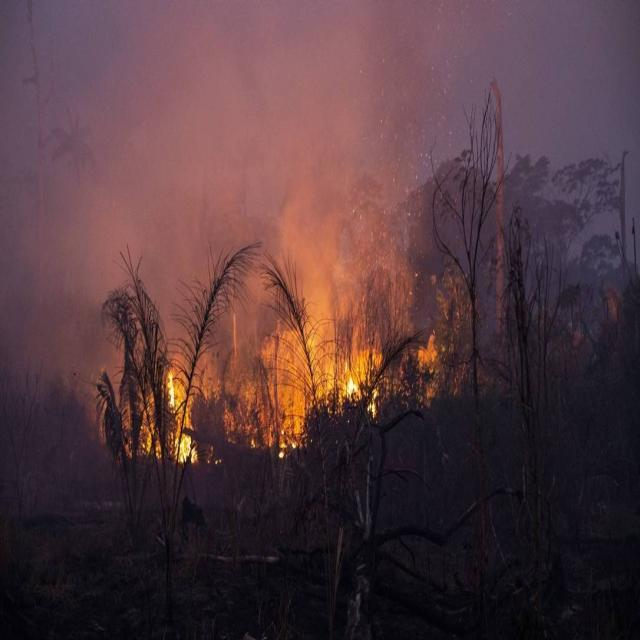Fire: (248, 325, 310, 463), (307, 326, 383, 424), (138, 364, 199, 464), (437, 274, 475, 408), (222, 346, 249, 444), (416, 331, 446, 406), (383, 352, 410, 404), (198, 358, 222, 406), (122, 400, 132, 458), (206, 444, 221, 466)
Smoke: (0, 0, 262, 359), (278, 26, 360, 325), (360, 0, 418, 331)
